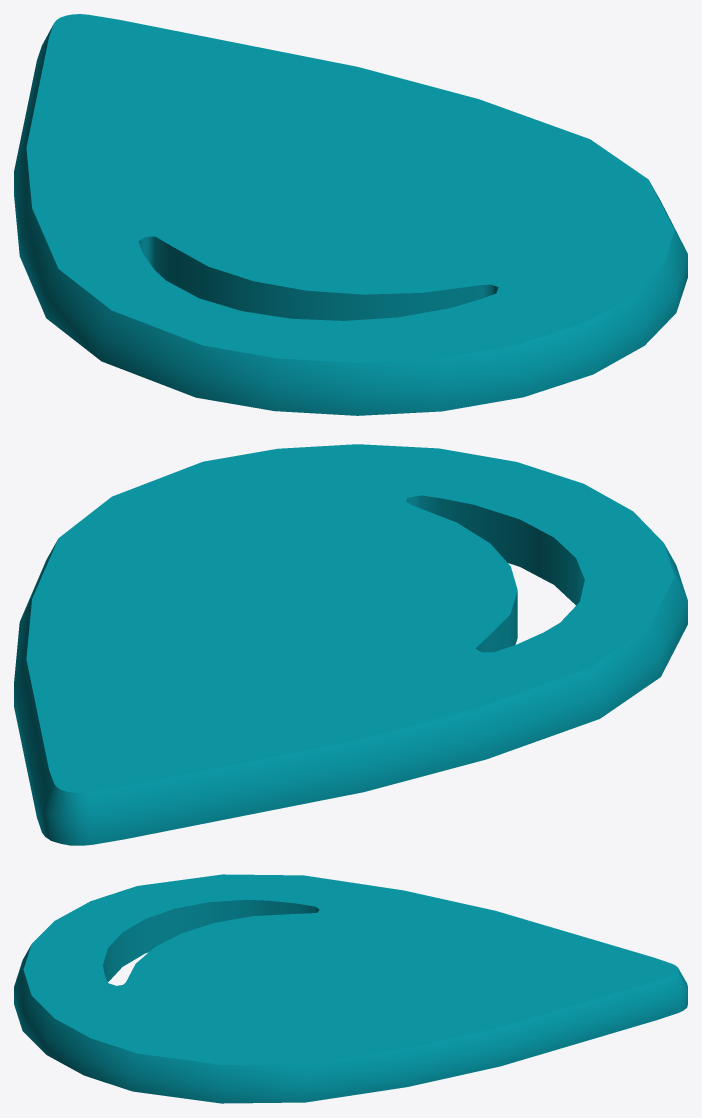
The model's file is icon_fontanero.fbx.
The picture shows the model from 3 angles, top to bottom: view 1: azimuth 30°, elevation 25°; view 2: azimuth 150°, elevation 25°; view 3: azimuth 270°, elevation 25°; orthographic projection. The views are drawn at different scales.
Visible parts, largest first — view 1: icon_agua; view 2: icon_agua; view 3: icon_agua.
Boxes of the visible parts, x1=… form: icon_agua: x1=14, y1=14, x2=687, y2=415; icon_agua: x1=14, y1=444, x2=687, y2=845; icon_agua: x1=14, y1=874, x2=687, y2=1103.
Size of the model in its own units: 0.5079 by 0.0411 by 0.7284.
